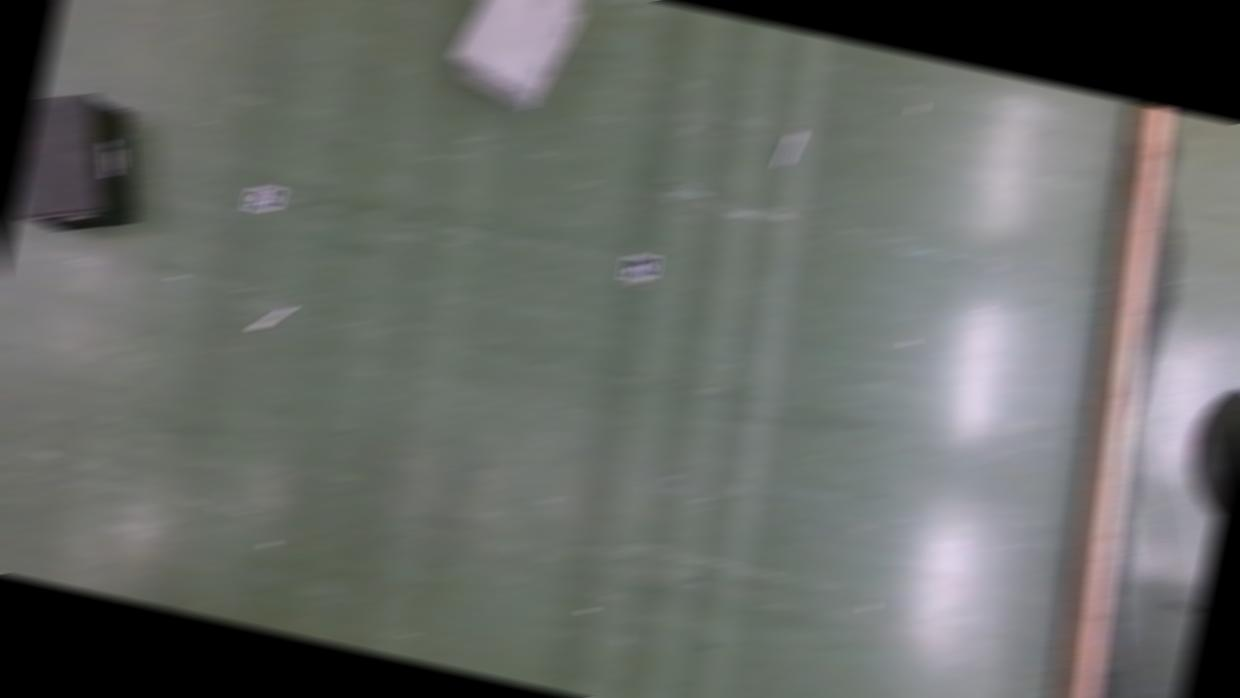probes: (253, 302, 294, 338), (776, 131, 802, 171)
rako: (10, 86, 160, 246), (442, 0, 590, 120)
